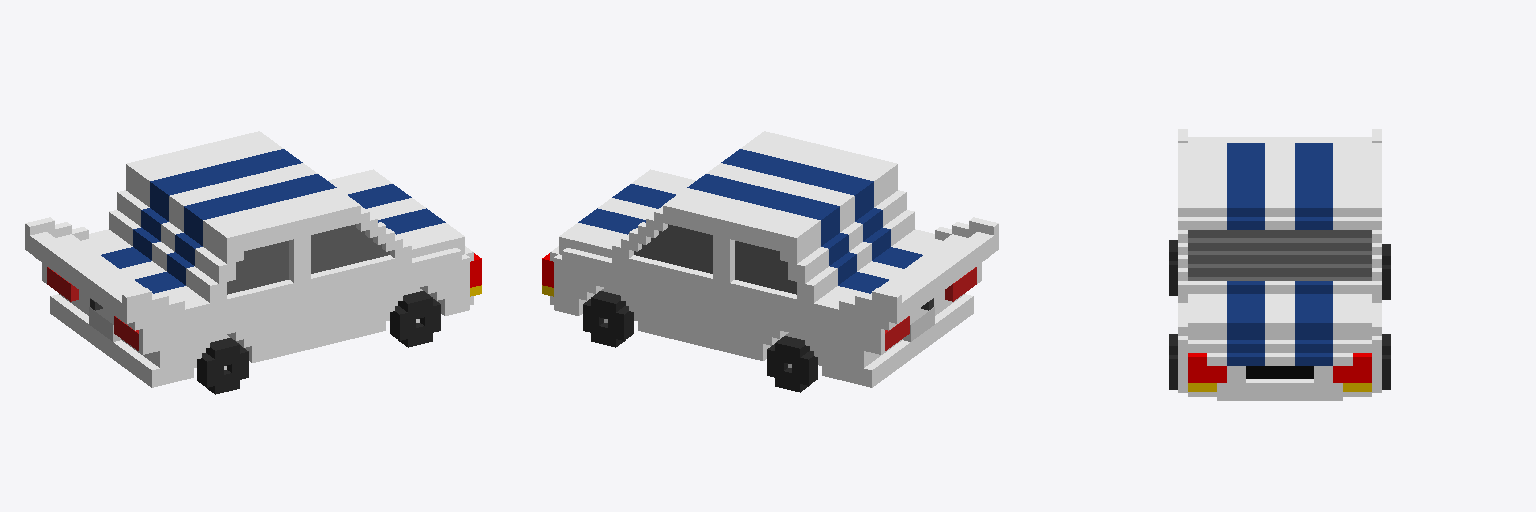
The picture shows the model from 3 angles: view 1: azimuth 30°, elevation 25°; view 2: azimuth 150°, elevation 25°; view 3: azimuth 270°, elevation 25°; orthographic projection.
Parts seen in each view (by area): view 1: Object.1; view 2: Object.1; view 3: Object.1.
Part boxes in pixels (bbox=[...]): Object.1: bbox=[25, 131, 481, 394]; Object.1: bbox=[542, 131, 998, 392]; Object.1: bbox=[1169, 129, 1390, 400].
Size of the model in its own units: 43 by 17 by 23.
1 materials, 1 textured.